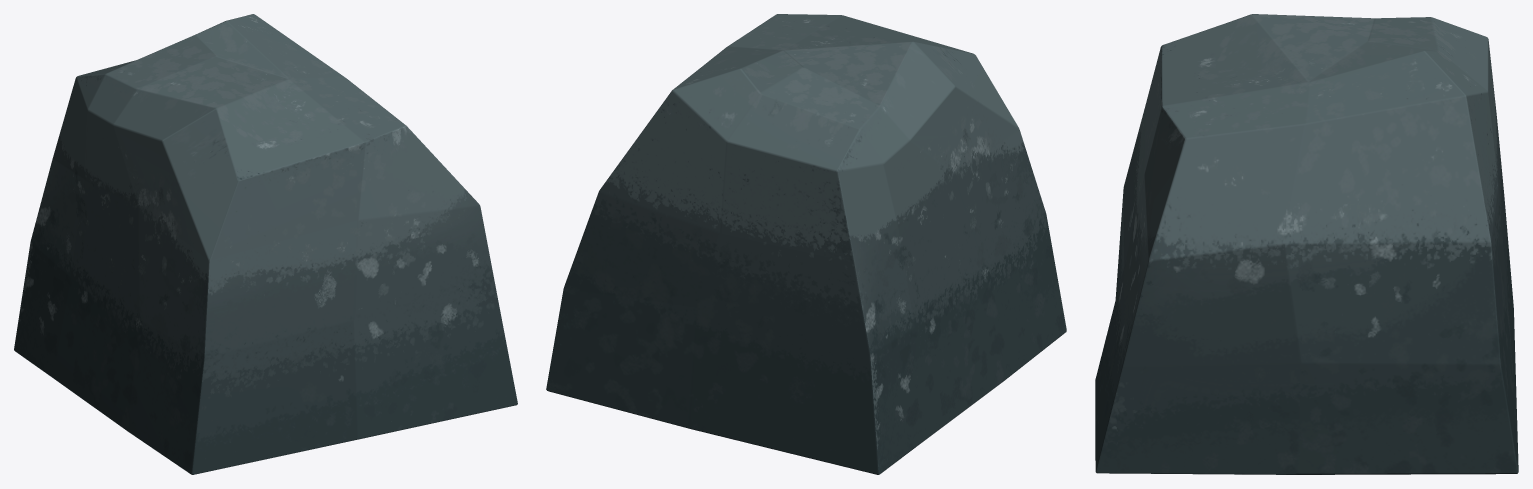
Rendered from rock_01.obj.
3 renders of one model, left to right at view 1: azimuth 30°, elevation 25°; view 2: azimuth 150°, elevation 25°; view 3: azimuth 270°, elevation 25°, orthographic. The views are drawn at different scales.
Visible parts, largest first — view 1: polySurface1; view 2: polySurface1; view 3: polySurface1.
Part boxes in pixels (x1=…): polySurface1: x1=14, y1=14, x2=517, y2=474; polySurface1: x1=546, y1=14, x2=1066, y2=474; polySurface1: x1=1095, y1=14, x2=1518, y2=474.
Bounding box in the file's own units: 1.15 × 1.09 × 1.19.
1 material, 1 textured.
